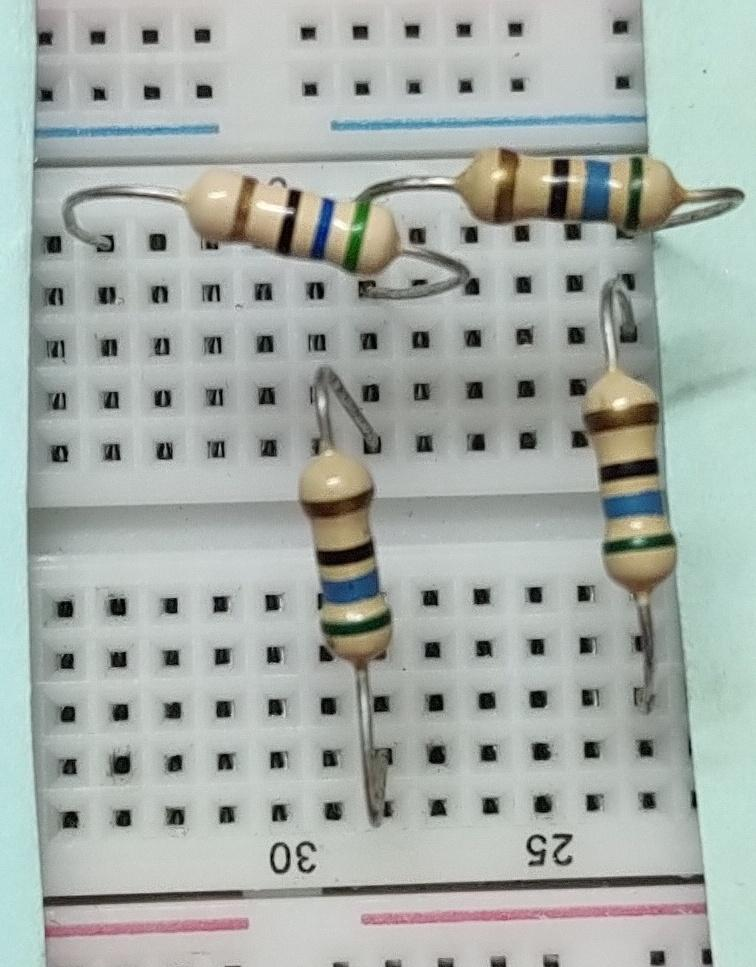resistor: (453, 137, 685, 249), (575, 363, 684, 601), (177, 163, 408, 275), (289, 435, 401, 666)
